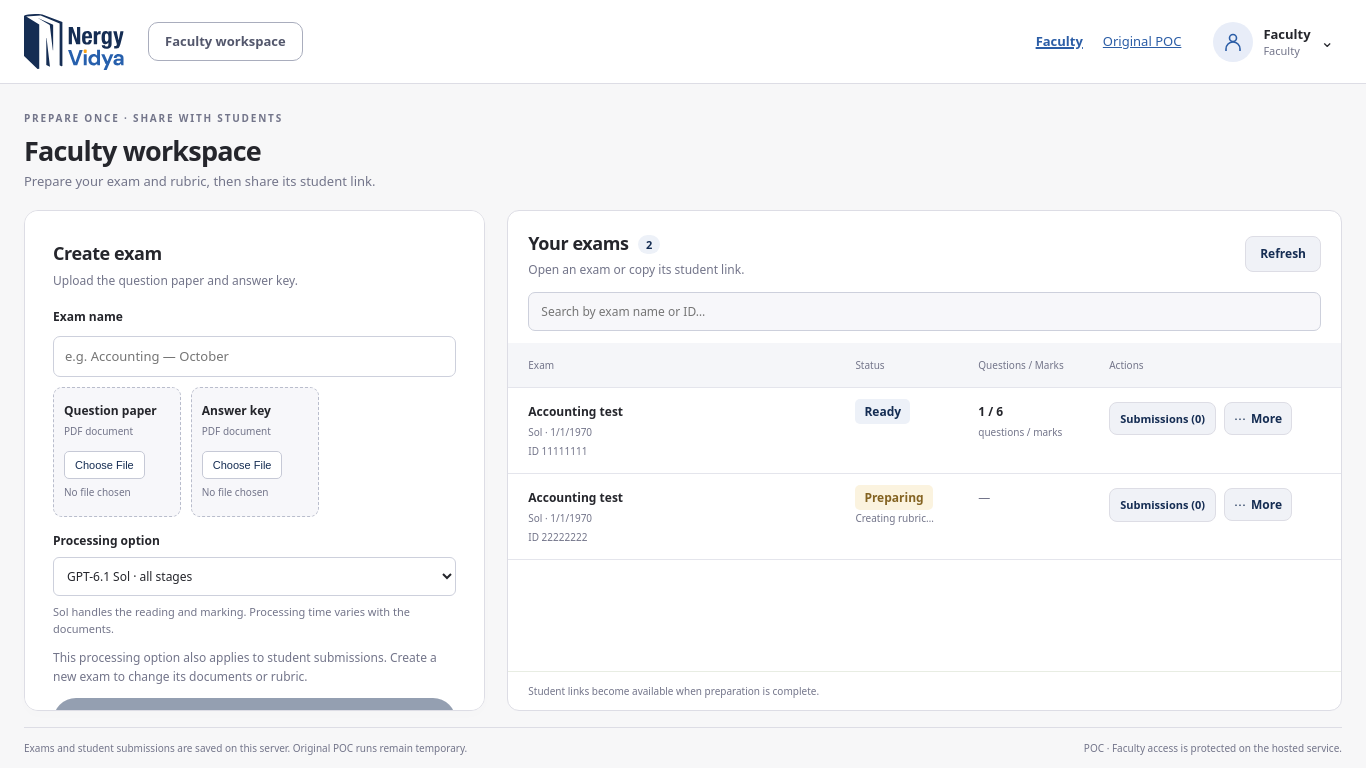
Test: Faculty page › provides and copies a distinct student link only for a ready exam
Click the button with aria-label "More actions for Accounting test" at (1258, 419), box top-left (1224, 402), bottom-right (1292, 435)
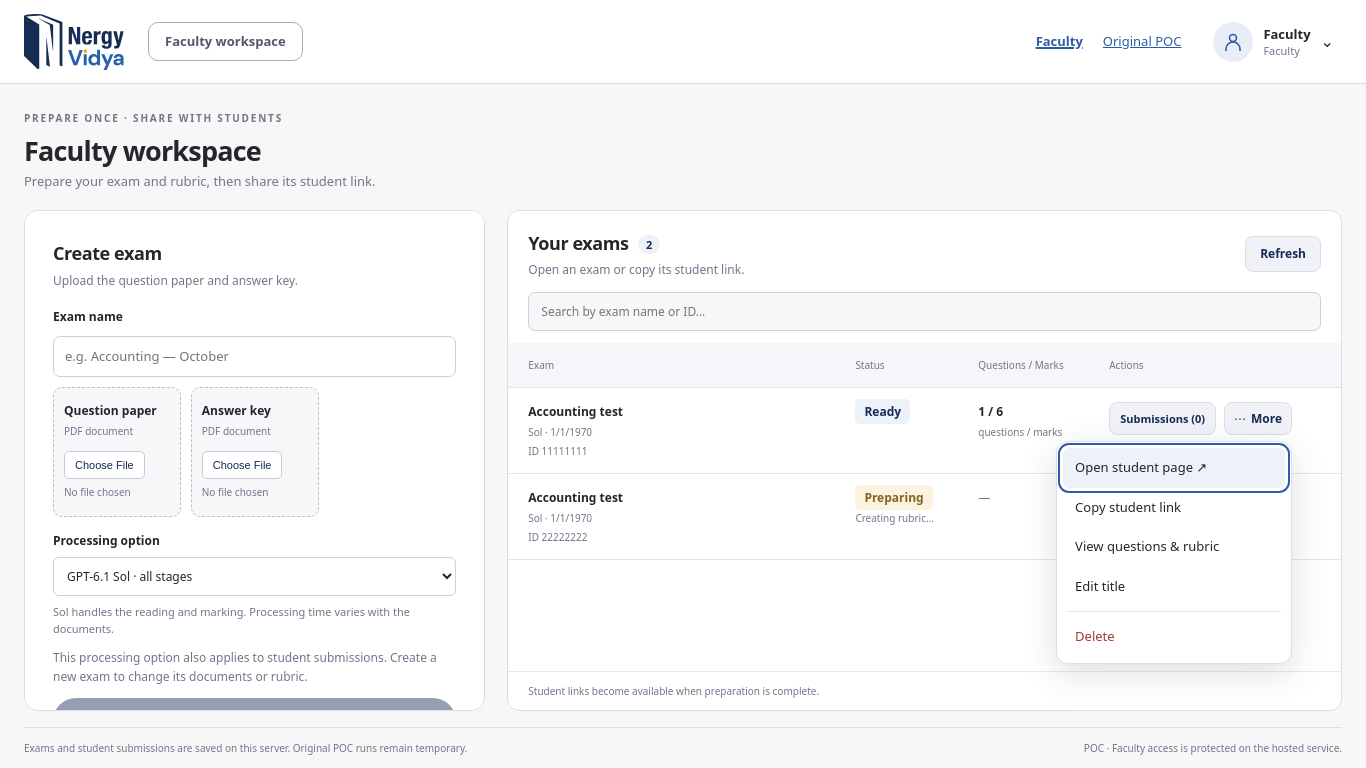
Expected: the number of menu items "Copy student link" is 1
Click the menu item "Copy student link" at (1174, 507), box top-left (1063, 488), bottom-right (1285, 527)
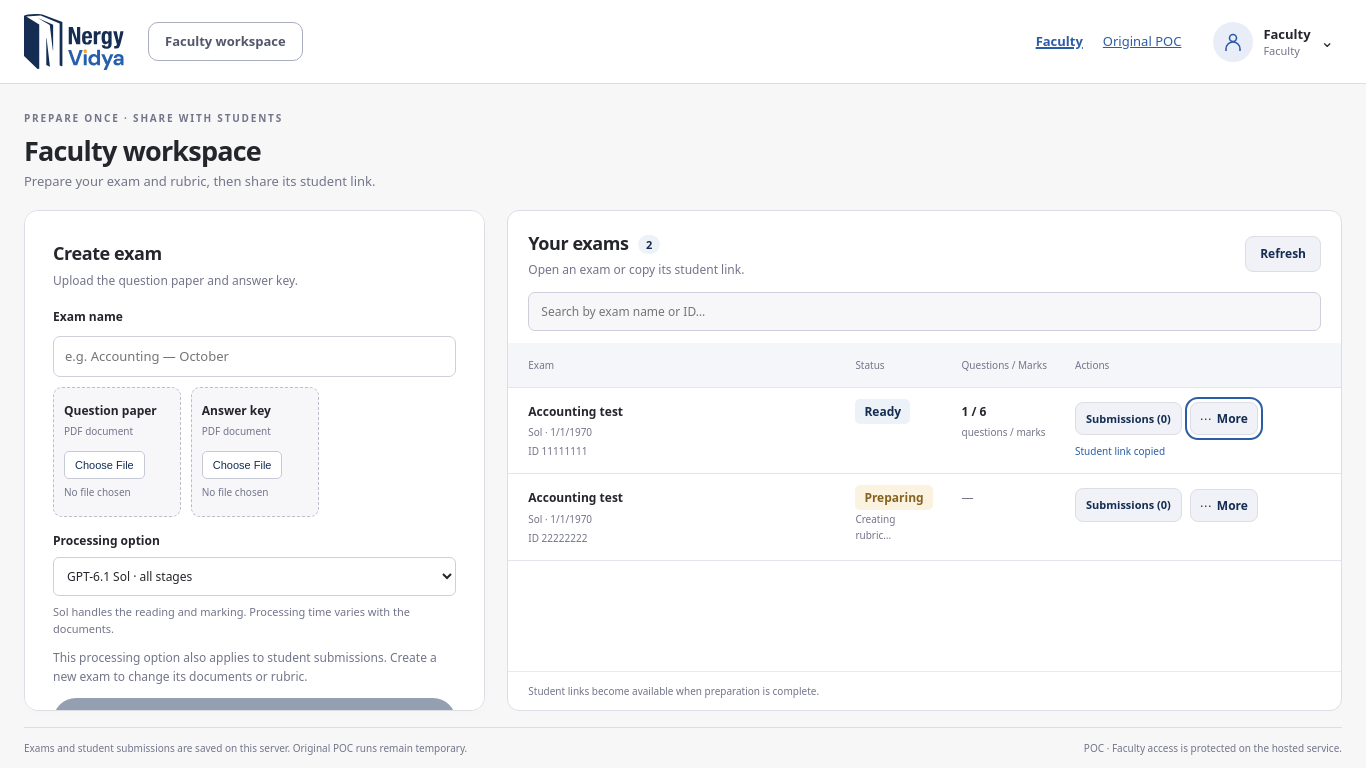
Expected: the text "Student link copied" is shown, top-left (1075, 444), bottom-right (1165, 458)
